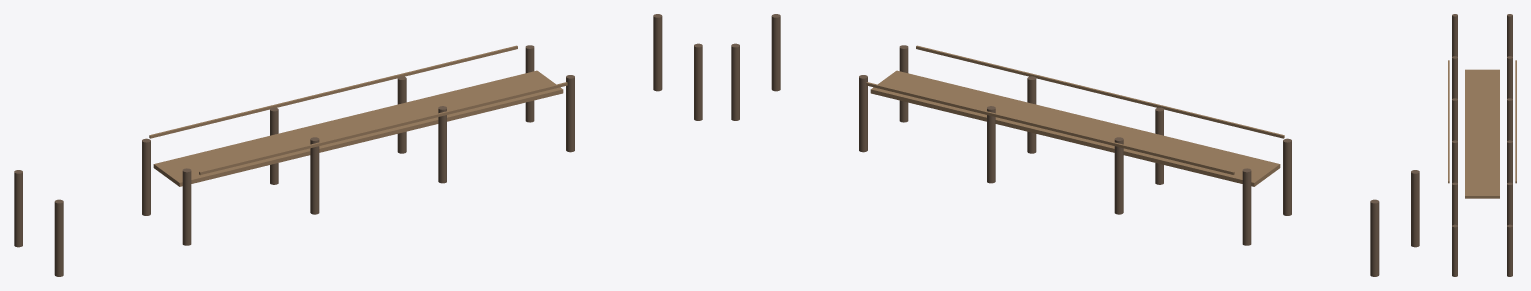
Rendered from pier_far.glb.
3 views of the same model, side by side, from view 1: azimuth 30°, elevation 25°; view 2: azimuth 150°, elevation 25°; view 3: azimuth 270°, elevation 25° (orthographic). The views are drawn at different scales.
Parts seen in each view (by area): view 1: pier_deck, pier_rail_-1.35, pier_rail_1.35, pier_post_1_-1.1, pier_post_0_-1.1, pier_post_5_1.1, pier_post_2_-1.1, pier_post_0_1.1, pier_post_1_1.1, pier_post_5_-1.1, pier_post_4_-1.1, pier_post_3_-1.1 (+3 smaller); view 2: pier_deck, pier_rail_1.35, pier_rail_-1.35, pier_post_1_1.1, pier_post_0_1.1, pier_post_5_-1.1, pier_post_2_1.1, pier_post_0_-1.1, pier_post_1_-1.1, pier_post_5_1.1, pier_post_4_1.1, pier_post_3_1.1 (+3 smaller); view 3: pier_deck, pier_post_5_-1.1, pier_post_5_1.1, pier_post_0_-1.1, pier_post_0_1.1, pier_post_1_-1.1, pier_post_1_1.1, pier_post_4_-1.1, pier_post_4_1.1, pier_post_2_-1.1, pier_post_2_1.1, pier_post_3_-1.1 (+3 smaller).
Boxes of the visible parts, x1=… form: pier_deck: x1=153, y1=70, x2=563, y2=186; pier_rail_-1.35: x1=199, y1=82, x2=567, y2=174; pier_rail_1.35: x1=149, y1=45, x2=517, y2=138; pier_post_1_-1.1: x1=182, y1=168, x2=191, y2=245; pier_post_0_-1.1: x1=54, y1=199, x2=63, y2=276; pier_post_5_1.1: x1=653, y1=14, x2=662, y2=91; pier_post_2_-1.1: x1=310, y1=137, x2=319, y2=214; pier_post_0_1.1: x1=14, y1=170, x2=22, y2=247; pier_post_1_1.1: x1=142, y1=138, x2=150, y2=215; pier_post_5_-1.1: x1=694, y1=43, x2=702, y2=120; pier_post_4_-1.1: x1=566, y1=75, x2=574, y2=152; pier_post_3_-1.1: x1=438, y1=106, x2=446, y2=183; pier_deck: x1=870, y1=70, x2=1280, y2=186; pier_rail_1.35: x1=866, y1=82, x2=1234, y2=174; pier_rail_-1.35: x1=916, y1=45, x2=1284, y2=138; pier_post_1_1.1: x1=1242, y1=168, x2=1251, y2=245; pier_post_0_1.1: x1=1370, y1=199, x2=1379, y2=276; pier_post_5_-1.1: x1=771, y1=14, x2=780, y2=91; pier_post_2_1.1: x1=1114, y1=137, x2=1123, y2=214; pier_post_0_-1.1: x1=1411, y1=170, x2=1419, y2=247; pier_post_1_-1.1: x1=1283, y1=138, x2=1291, y2=215; pier_post_5_1.1: x1=731, y1=43, x2=739, y2=120; pier_post_4_1.1: x1=859, y1=75, x2=867, y2=152; pier_post_3_1.1: x1=987, y1=106, x2=995, y2=183; pier_deck: x1=1465, y1=69, x2=1499, y2=198; pier_post_5_-1.1: x1=1452, y1=224, x2=1457, y2=276; pier_post_5_1.1: x1=1507, y1=224, x2=1512, y2=276; pier_post_0_-1.1: x1=1452, y1=14, x2=1457, y2=56; pier_post_0_1.1: x1=1507, y1=14, x2=1512, y2=56; pier_post_1_-1.1: x1=1452, y1=56, x2=1457, y2=98; pier_post_1_1.1: x1=1507, y1=56, x2=1512, y2=98; pier_post_4_-1.1: x1=1452, y1=182, x2=1457, y2=225; pier_post_4_1.1: x1=1507, y1=182, x2=1512, y2=225; pier_post_2_-1.1: x1=1452, y1=98, x2=1457, y2=140; pier_post_2_1.1: x1=1507, y1=98, x2=1512, y2=140; pier_post_3_-1.1: x1=1452, y1=140, x2=1457, y2=183.
Size of the model in its own units: 20.24 by 2.2 by 2.76.
